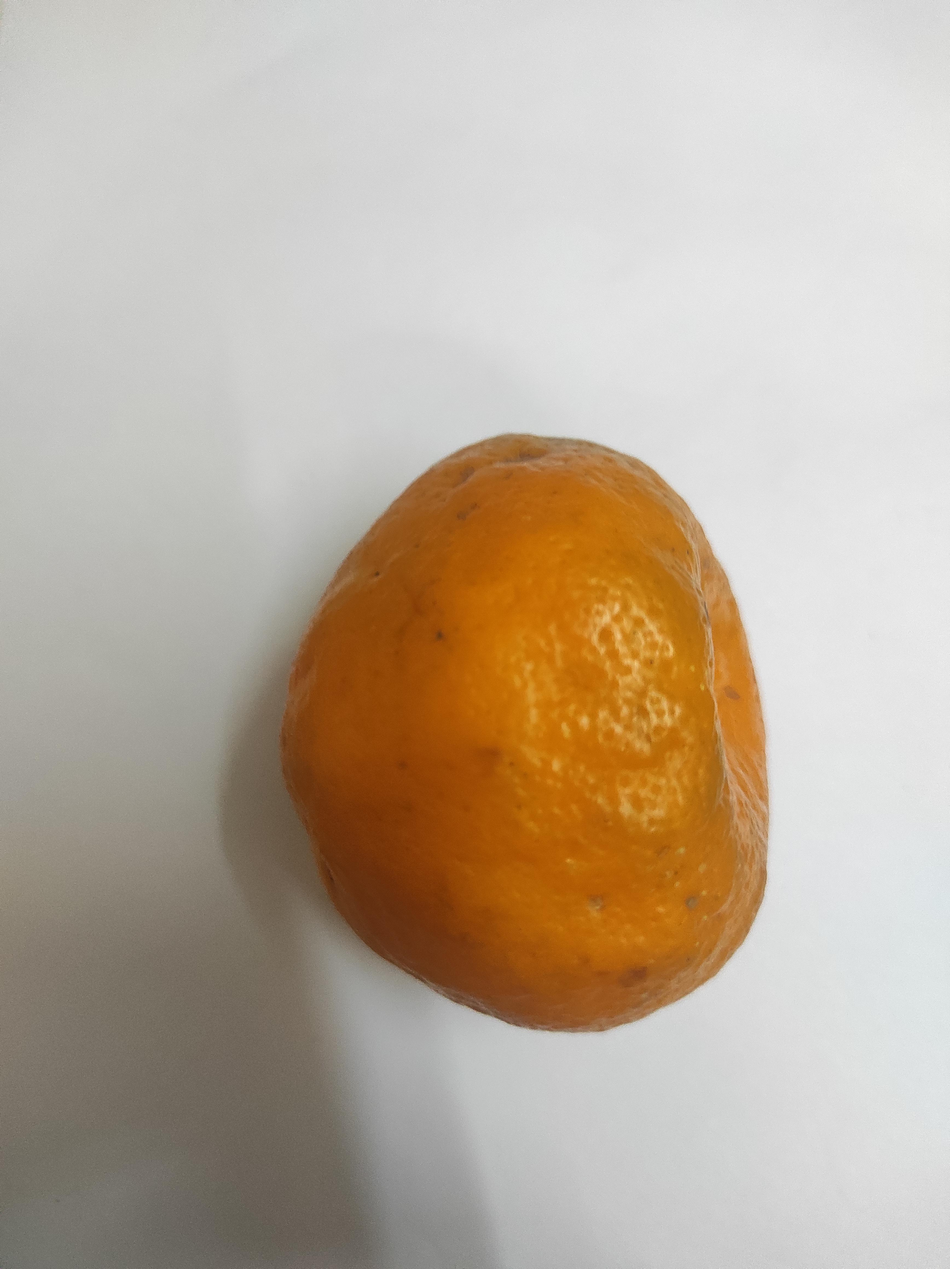Orange Ripe: (219, 592, 579, 1269)
